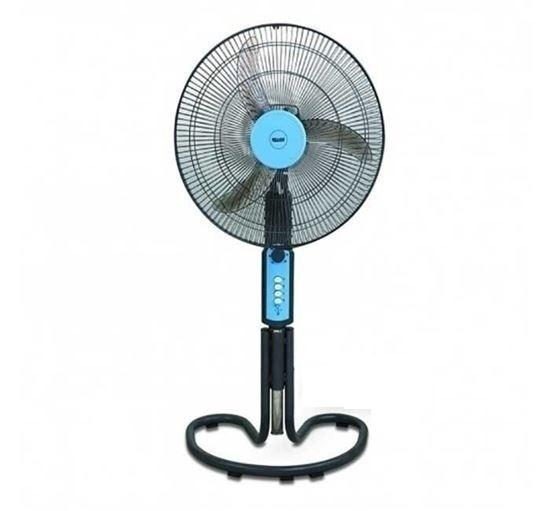fan: (154, 22, 392, 511)
